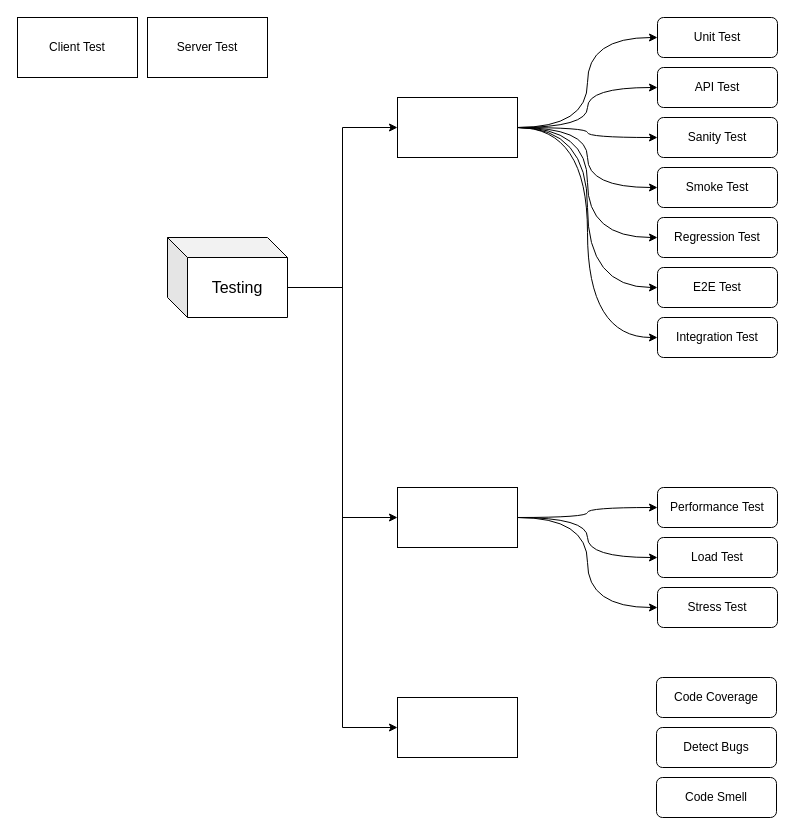
Some shapes in this 795 by 835 pixel diagram are drawn without their labels. Here are the shapes that lost their labels. From the top down, the centre of each, then its label:
At pixel 457 127: "Functional Test".
At pixel 457 517: "Non-Functional Test".
At pixel 457 727: "Code Quality Test".
